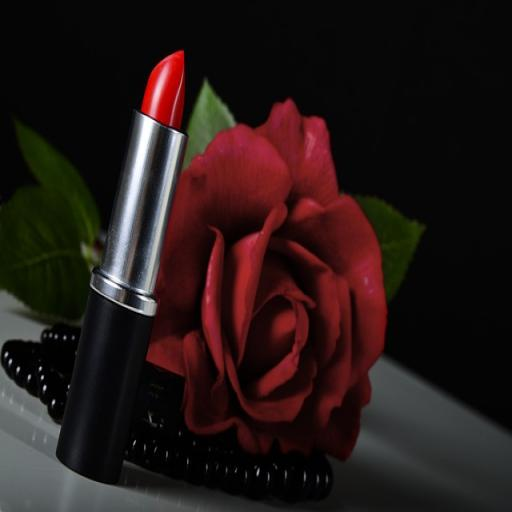lipstick: (56, 51, 187, 483)
